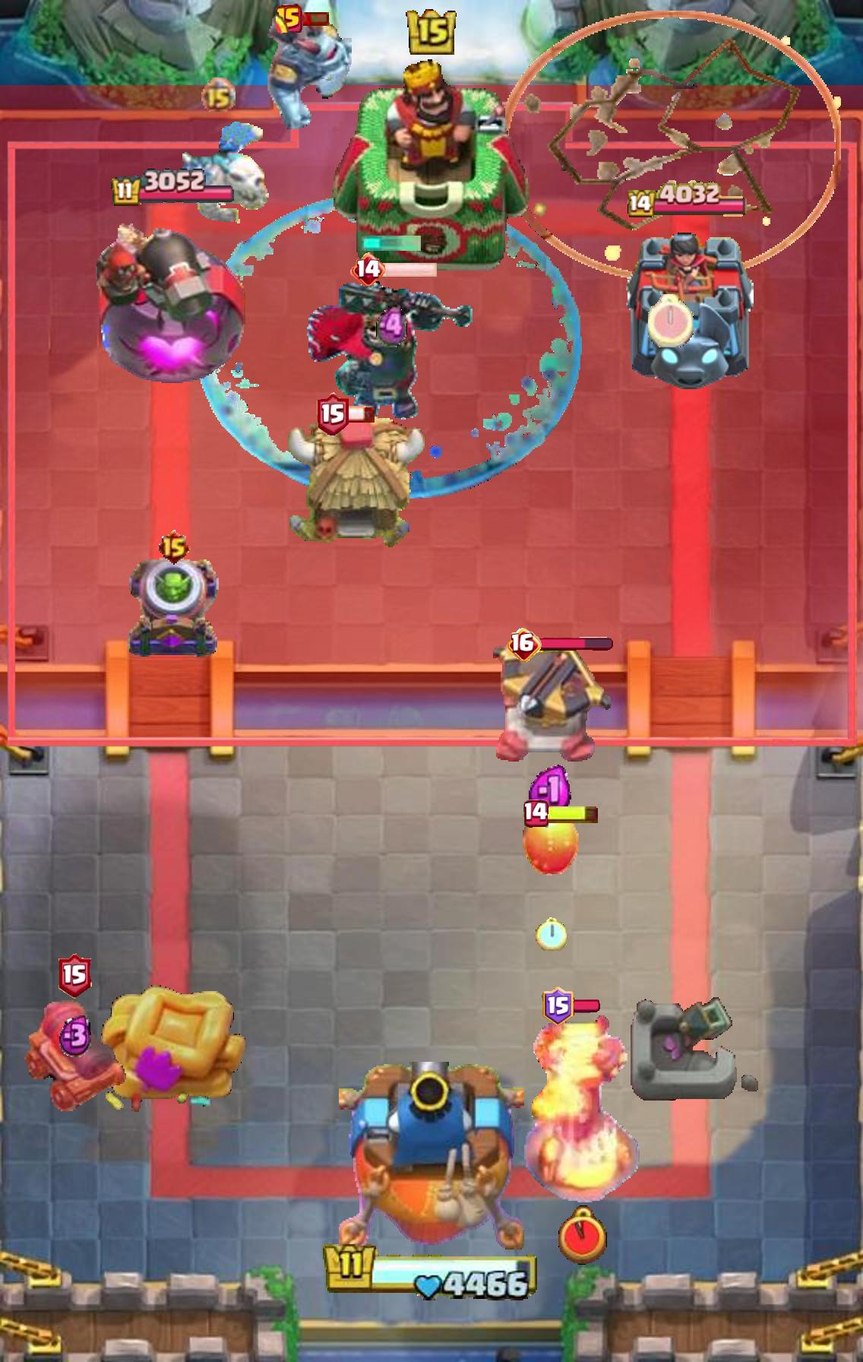elixir: (528, 765, 575, 818), (58, 1013, 94, 1057), (376, 303, 408, 350)
